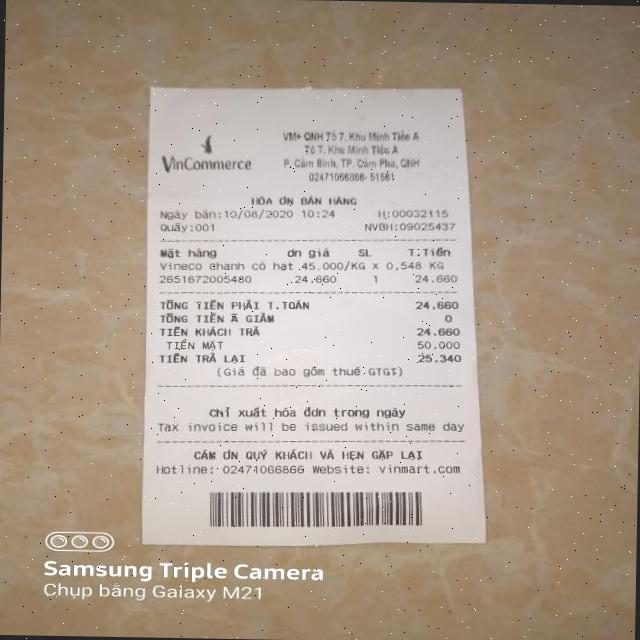Date: (223, 206, 294, 221)
Store_Name: (158, 154, 255, 176)
amount_number: (414, 298, 461, 311)
label_total: (158, 297, 312, 312)
